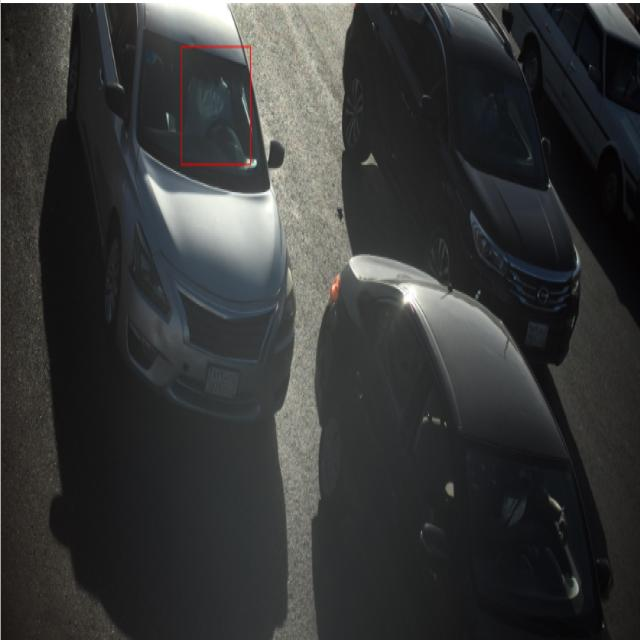windshield: (134, 26, 272, 207), (451, 51, 549, 196), (605, 29, 639, 124)
